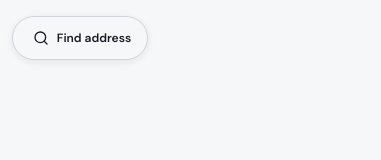
Test: distinguishes no matches, rate limits, and provider configuration failures
The image size is (381, 160).
Replace the text in the search field named "Find an address or postal code" with "123456" at (80, 38), box top-left (12, 16), bottom-right (148, 60)
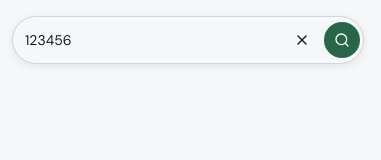
Click the button named "Search map addresses" at (342, 40), box top-left (324, 22), bottom-right (360, 58)
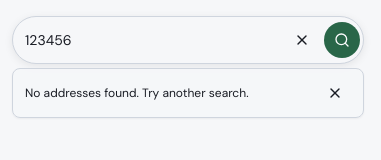
Result: the text "No addresses found. Try another search." is shown at top-left (25, 85), bottom-right (248, 101)
Click the button named "Search map addresses" at (342, 40), box top-left (324, 22), bottom-right (360, 58)
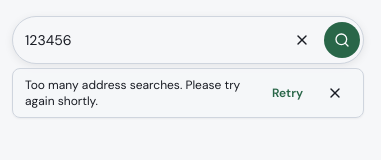
Result: the message shows "Too many address searches. Please try again shortly." at top-left (25, 77), bottom-right (240, 109)
Click the button with aria-label "Retry address search" at (288, 93), box top-left (264, 77), bottom-right (311, 109)
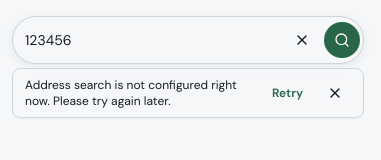
Result: the message shows "Address search is not configured right now. Please try again later." at top-left (25, 77), bottom-right (237, 109)
